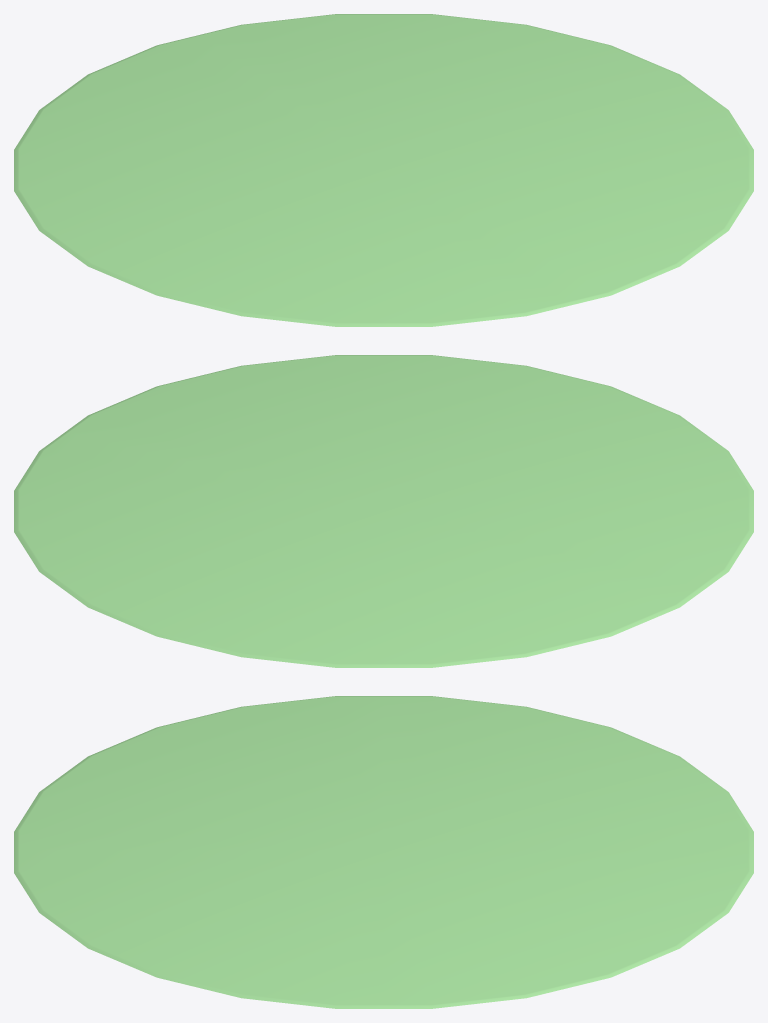
The model's file is SM_RoundTable_Center.fbx.
The picture shows the model from 3 angles, top to bottom: view 1: azimuth 30°, elevation 25°; view 2: azimuth 150°, elevation 25°; view 3: azimuth 270°, elevation 25°; orthographic projection.
Visible parts, largest first — view 1: SM_RoundTable_center; view 2: SM_RoundTable_center; view 3: SM_RoundTable_center.
Boxes of the visible parts, x1,y1,x2,y2 form: SM_RoundTable_center: (14,14,753,326); SM_RoundTable_center: (14,355,753,667); SM_RoundTable_center: (14,696,753,1008).
Size of the model in its own units: 165 by 0.406 by 165.
